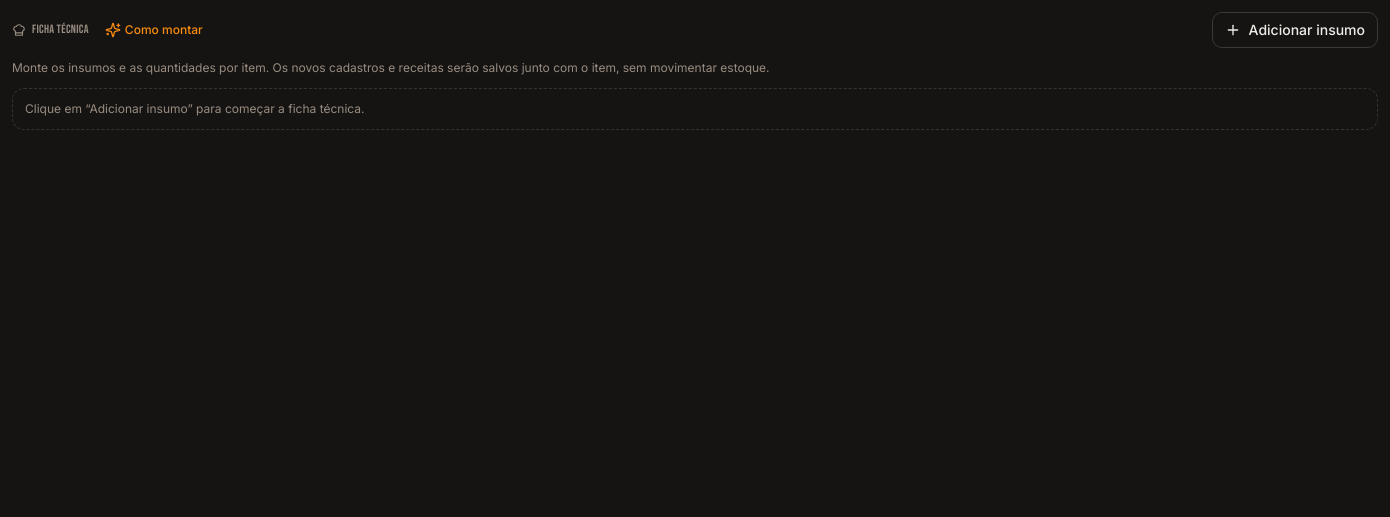
Test: technical recipe draft › autocomplete reuses an existing material and its unit
Later steps or results of the test are not shown.
Click the button "Adicionar insumo" at (1295, 30), box [1212,12,1378,48]
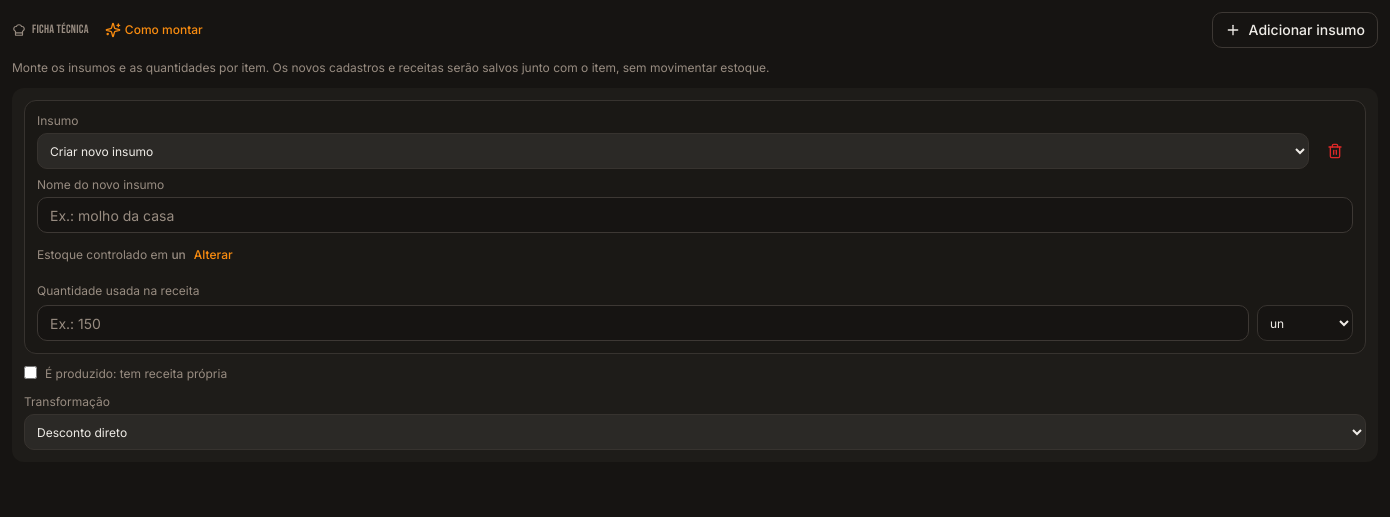
Type "tom" into the dropdown labelled "Nome do novo insumo" at (695, 215), box [37,197,1353,233]
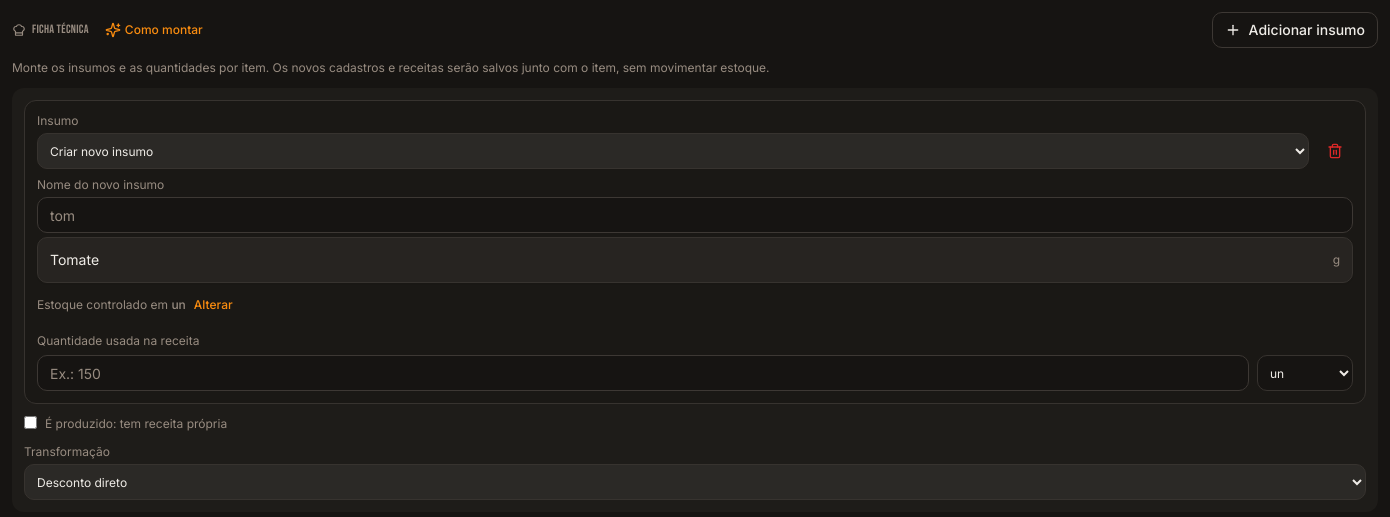
Press ArrowDown in the dropdown labelled "Nome do novo insumo", box [37,197,1353,233]
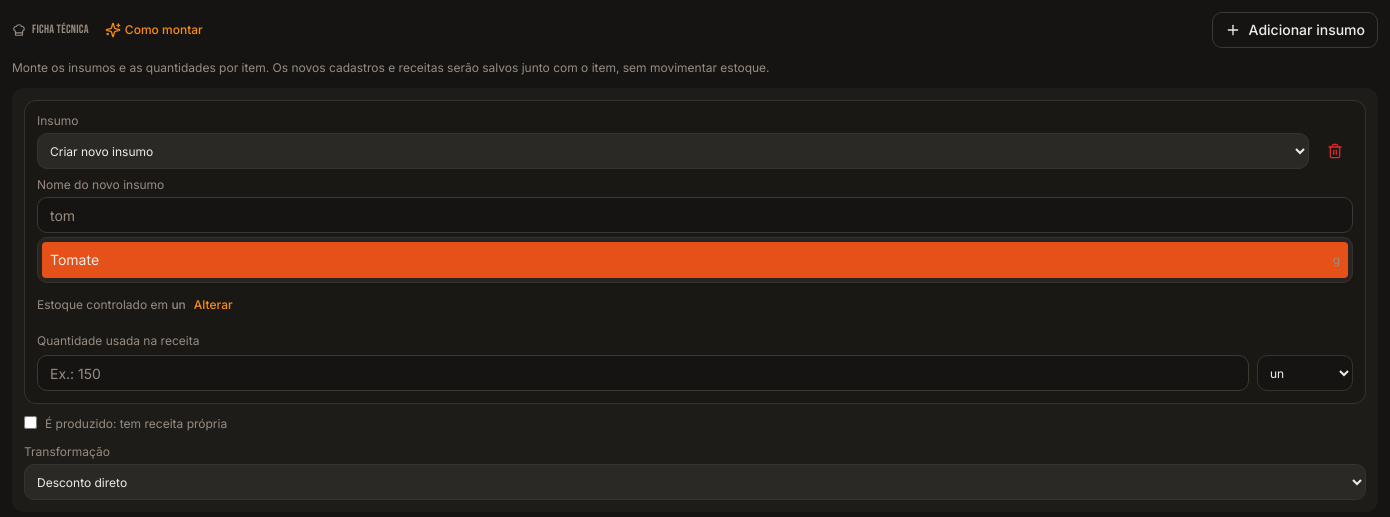
Press Enter in the dropdown labelled "Nome do novo insumo", box [37,197,1353,233]
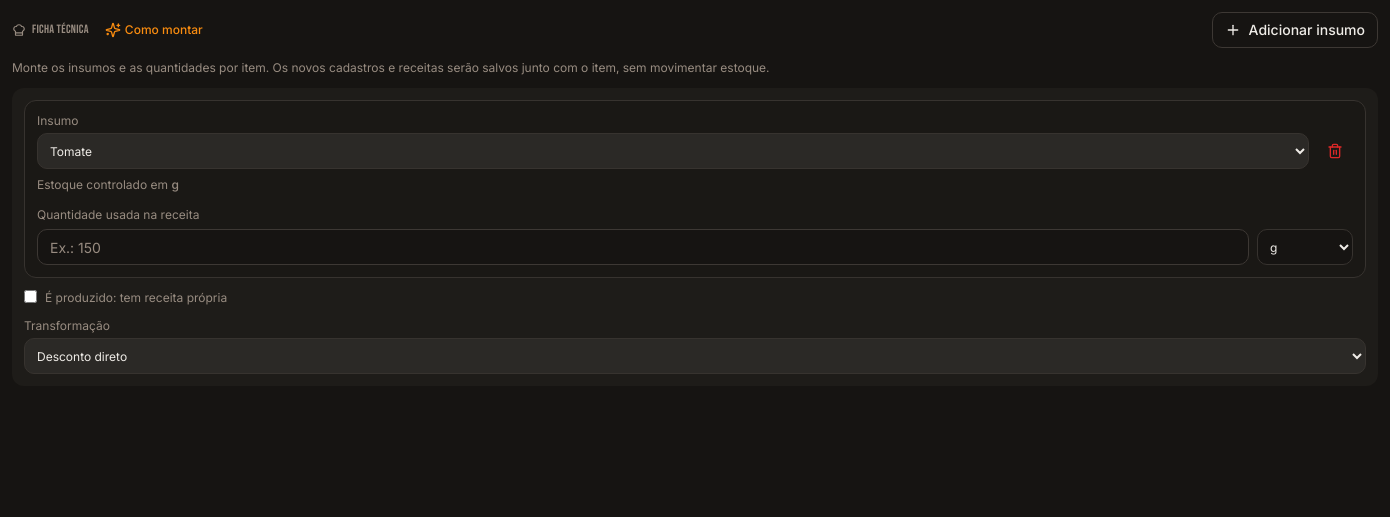
Result: the dropdown labelled "Insumo" shows "Tomate" at [37,133,1309,169]
Result: the dropdown named "Unidade de medida do insumo" shows "g" at [1257,229,1353,265]
